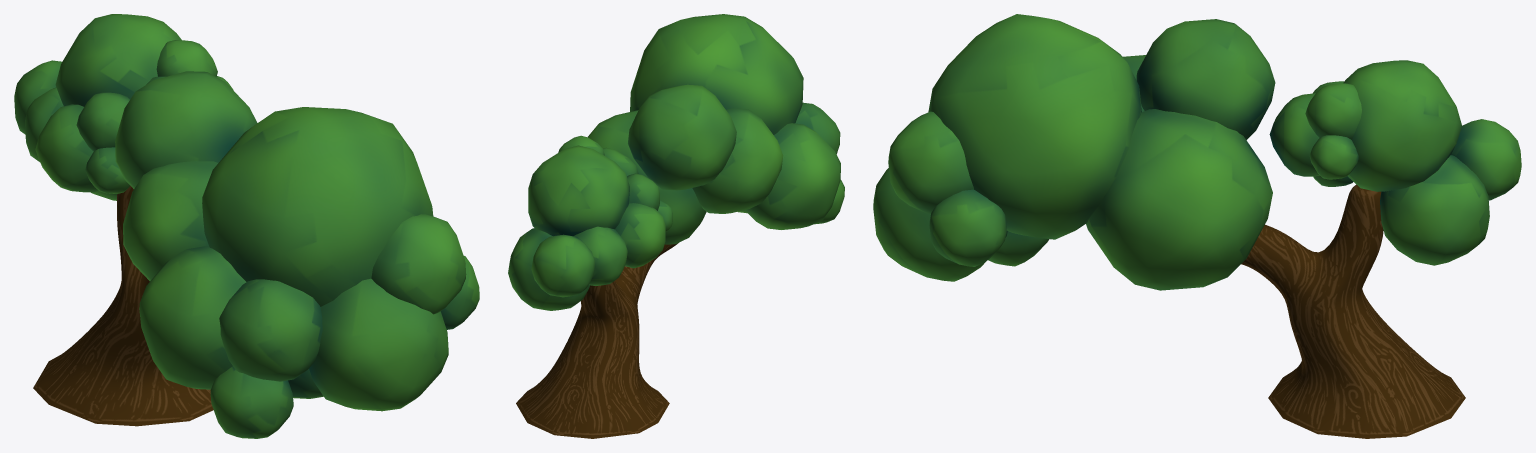
3 views of the same model, side by side, from view 1: azimuth 30°, elevation 25°; view 2: azimuth 150°, elevation 25°; view 3: azimuth 270°, elevation 25° (orthographic). The views are drawn at different scales.
Visible parts, largest first — view 1: pPlatonic5 (×2), Tree_Trunk, pPlatonic1 (×2), pPlatonic28, pPlatonic26 (×2), pPlatonic4 (×2), pPlatonic11 (×2), pPlatonic27 (×2), pPlatonic7 (×2), pPlatonic9, pPlatonic6; view 2: pPlatonic5 (×2), Tree_Trunk, pPlatonic26 (×2), pPlatonic1 (×2), pPlatonic11 (×2), pPlatonic10 (×2), pPlatonic4 (×2), pPlatonic28, pPlatonic7, pPlatonic27; view 3: pPlatonic5 (×2), pPlatonic10 (×2), Tree_Trunk, pPlatonic26 (×2), pPlatonic27 (×2), pPlatonic28 (×2), pPlatonic9 (×2), pPlatonic6.
Boxes of the visible parts, x1,y1,x2,y2 form: pPlatonic5 (×2): (55, 14, 433, 306); Tree_Trunk: (33, 186, 213, 426); pPlatonic1 (×2): (35, 104, 246, 389); pPlatonic28: (309, 278, 448, 411); pPlatonic26 (×2): (14, 60, 257, 188); pPlatonic4 (×2): (76, 92, 322, 381); pPlatonic11 (×2): (25, 87, 218, 280); pPlatonic27 (×2): (156, 40, 466, 314); pPlatonic7 (×2): (85, 147, 293, 438); pPlatonic9: (440, 256, 479, 329); pPlatonic6: (288, 369, 323, 398); pPlatonic5 (×2): (528, 14, 803, 236); Tree_Trunk: (516, 243, 678, 438); pPlatonic26 (×2): (531, 84, 736, 297); pPlatonic1 (×2): (615, 123, 840, 268); pPlatonic11 (×2): (574, 108, 783, 285); pPlatonic10 (×2): (508, 110, 706, 310); pPlatonic4 (×2): (627, 102, 840, 210); pPlatonic28: (603, 147, 638, 176); pPlatonic7: (814, 180, 844, 224); pPlatonic27: (558, 135, 604, 155); pPlatonic5 (×2): (928, 14, 1461, 239); pPlatonic10 (×2): (1086, 109, 1489, 290); Tree_Trunk: (1241, 184, 1465, 438); pPlatonic26 (×2): (1136, 19, 1521, 200); pPlatonic27 (×2): (888, 83, 1361, 213); pPlatonic28 (×2): (873, 93, 1319, 281); pPlatonic9 (×2): (929, 135, 1358, 266); pPlatonic6: (988, 231, 1049, 266).
Size of the model in its own units: 25.51 by 34.14 by 53.59.
Materials: 2 (2 with a texture image).
